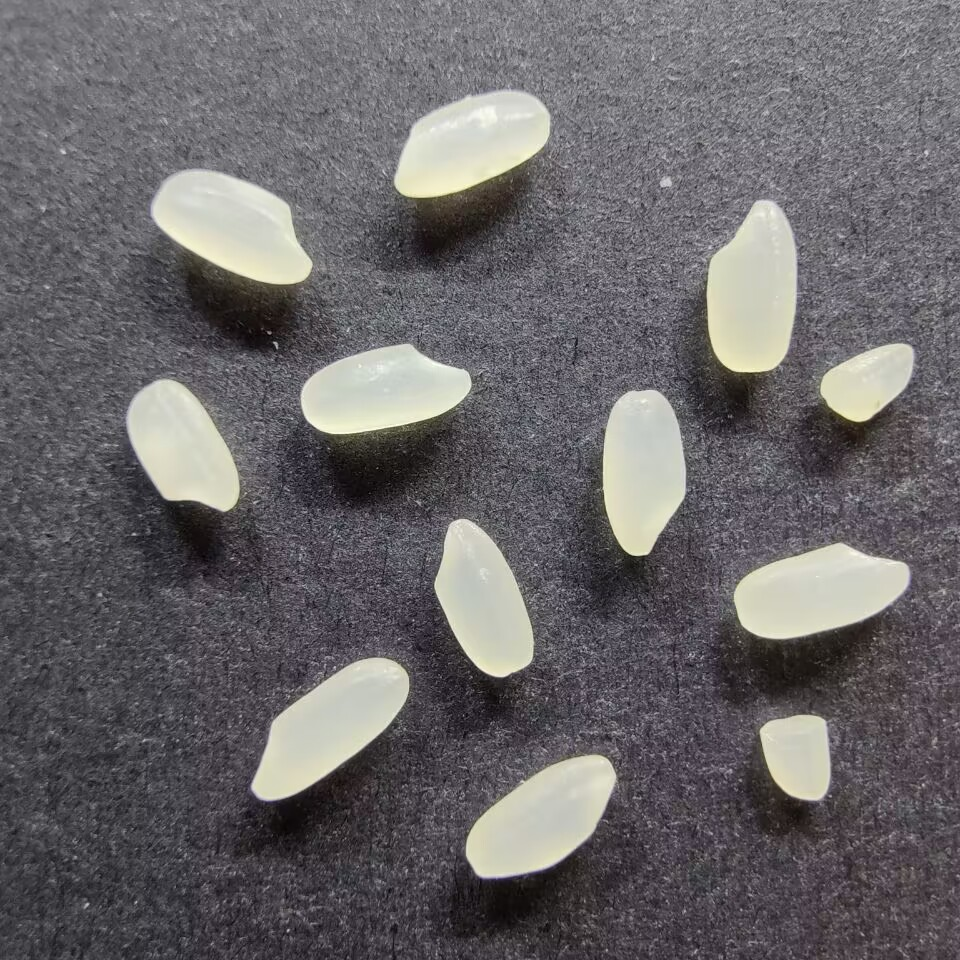broken: (820, 342, 917, 422), (757, 713, 832, 803)
rice: (248, 656, 410, 801), (461, 751, 618, 880), (149, 167, 312, 285), (731, 540, 911, 640), (391, 89, 551, 200), (703, 197, 799, 374), (299, 339, 472, 436), (432, 517, 535, 678), (124, 376, 240, 513), (600, 387, 687, 557)
